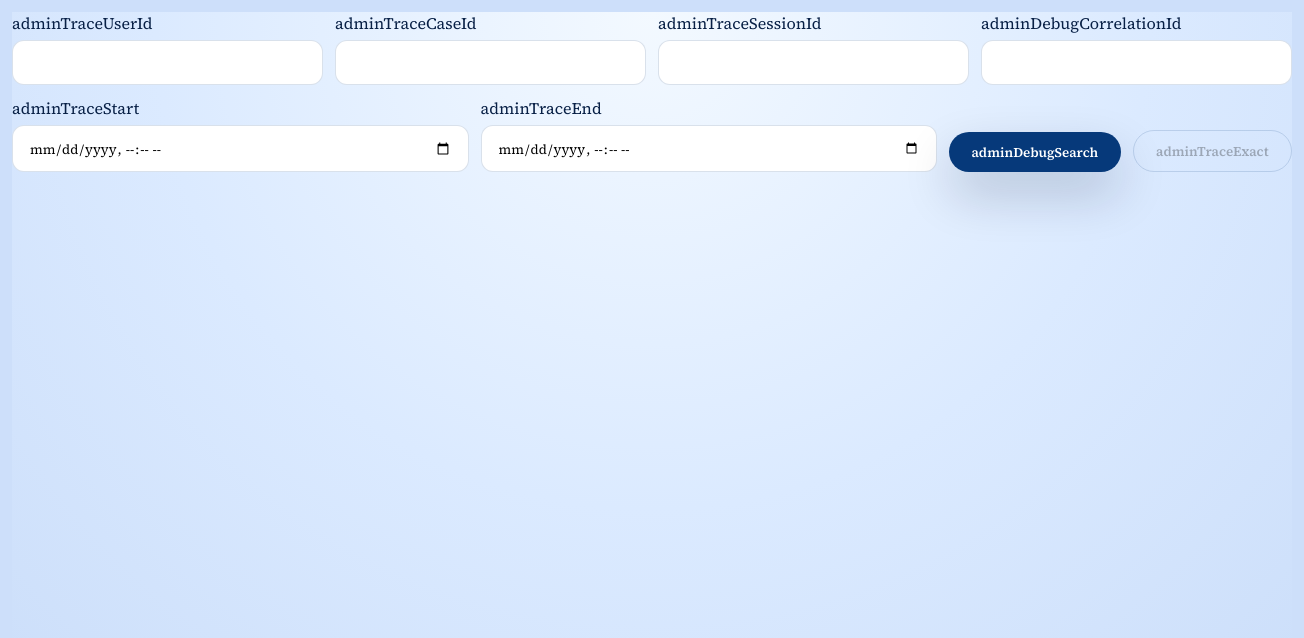
Test: metadata trace search › requires an identifier and reports expired exact lookups
The width and height of the screenshot is (1304, 638).
Click the button "adminDebugSearch" at coordinates (1035, 152), box [949,132,1121,172]
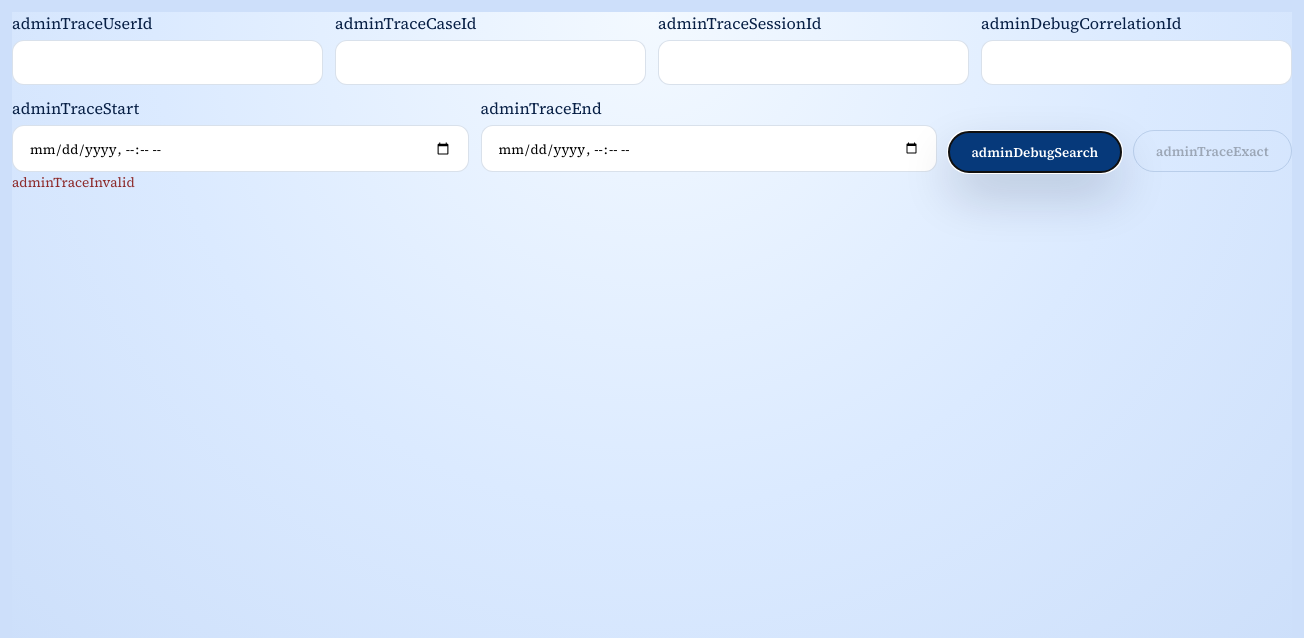
Type "corr-old" into the field labelled "adminDebugCorrelationId" at coordinates (1136, 62), box [981,40,1292,85]
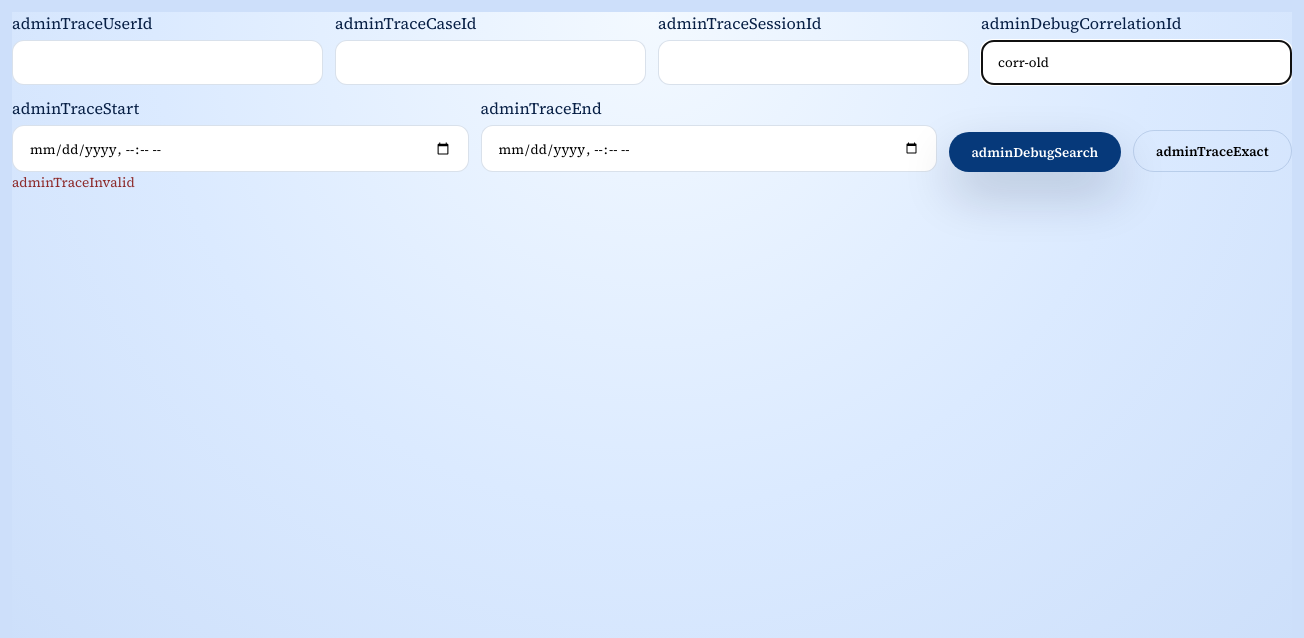
Click the button "adminTraceExact" at coordinates (1212, 151), box [1133,130,1292,172]
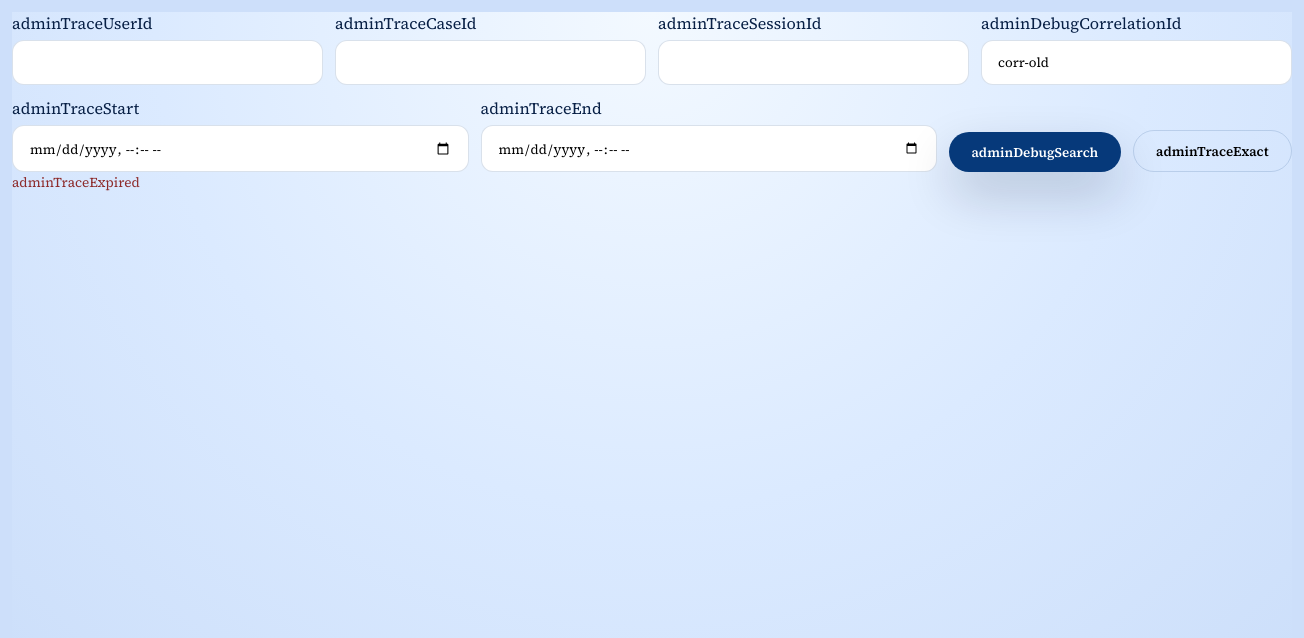
expect the message reads "adminTraceExpired": met, box [12,173,140,192]
